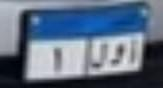1: (52, 44, 71, 71)
أ: (92, 38, 112, 68)
و: (112, 42, 126, 66)
